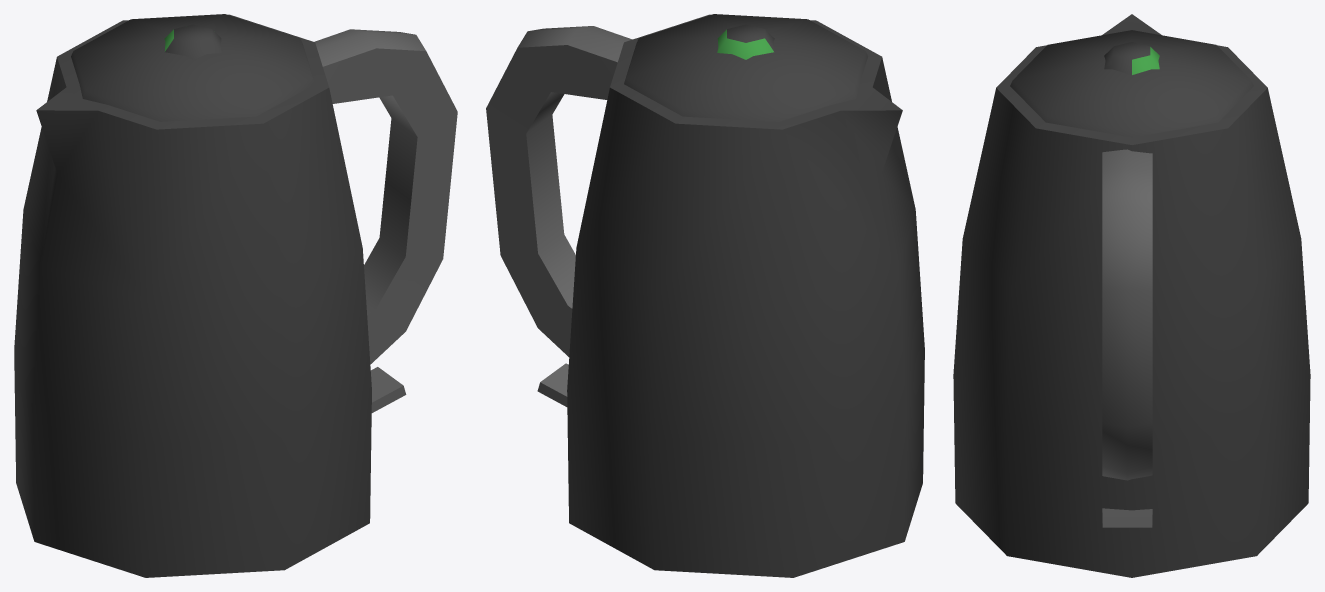
3 renders of one model, left to right at view 1: azimuth 30°, elevation 25°; view 2: azimuth 150°, elevation 25°; view 3: azimuth 270°, elevation 25°, orthographic. The views are drawn at different scales.
Parts seen in each view (by area): view 1: electronics_015; view 2: electronics_015; view 3: electronics_015.
Part boxes in pixels (box(x1,y1,x2,y2)): electronics_015: box(14, 14, 457, 577); electronics_015: box(486, 14, 924, 577); electronics_015: box(953, 14, 1310, 577).
Size of the model in its own units: 0.2307 by 0.2497 by 0.1786.
3 materials, 1 textured.
